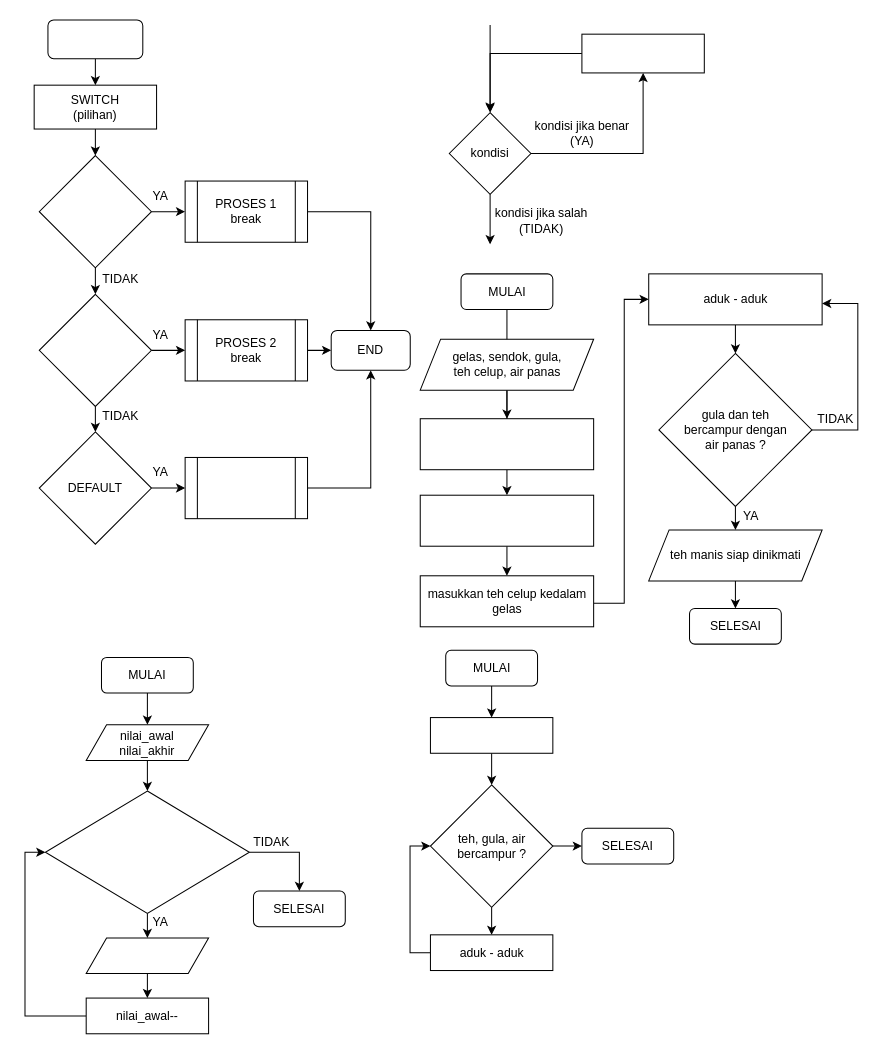
The diagram is 884 pixels wide and 1052 high, and some of its shapes have lost their labels. The box of each missing label's shape, as (x1, y1, x2, y2) in pixels:
CETAK (nilai_awal): (85, 937, 209, 974)
masukkan gula kedalam gelas: (419, 494, 594, 546)
nilai_awal >= nilai_akhir ?: (44, 790, 249, 913)
pernyataan: (581, 33, 704, 73)
pilihan = CASE 1: (38, 155, 151, 268)
pilihan = CASE 2: (38, 293, 151, 406)
PROSES DEFAULT break: (184, 456, 308, 519)
START: (47, 19, 143, 59)
teh, gula, air: (429, 717, 553, 753)
tuang air panas kedalam gelas: (419, 418, 594, 470)
